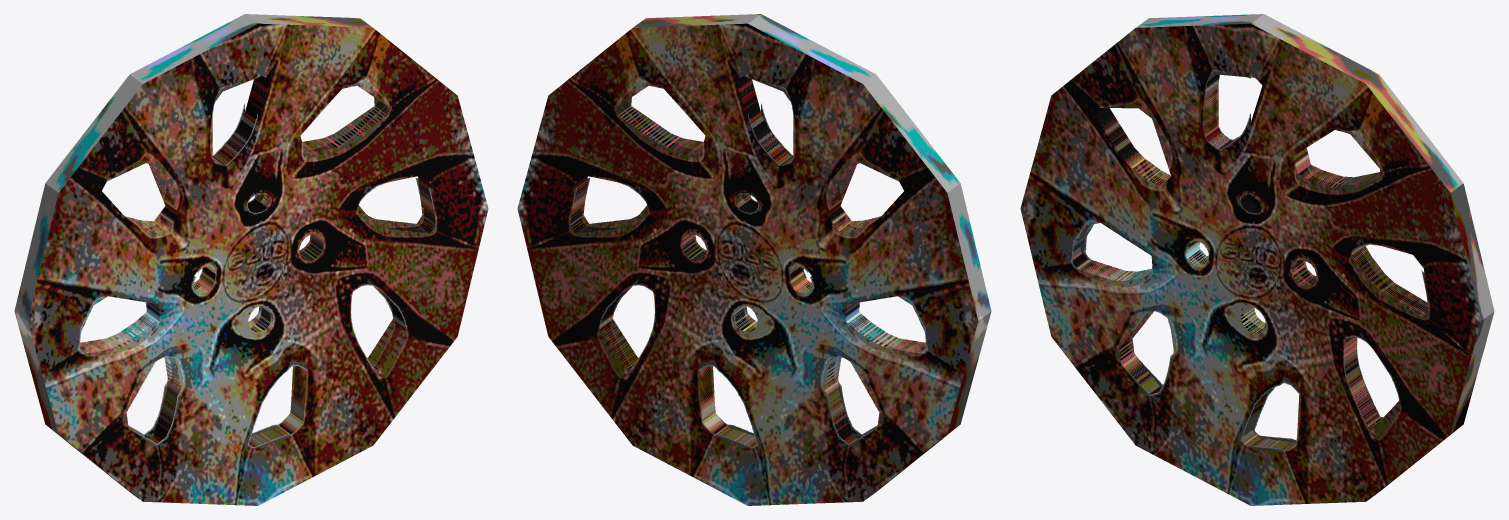
The model's file is CalotaCarro.fbx.
The picture shows the model from 3 angles, left to right: view 1: azimuth 30°, elevation 25°; view 2: azimuth 150°, elevation 25°; view 3: azimuth 330°, elevation 25°; orthographic projection.
Parts seen in each view (by area): view 1: Circle; view 2: Circle; view 3: Circle.
Part boxes in pixels (x1,y1,x2,y2): Circle: [14, 14, 488, 505]; Circle: [517, 14, 991, 505]; Circle: [1020, 14, 1494, 505].
Bounding box in the file's own units: 54.4 × 54.4 × 2.7.
1 material, 1 textured.
